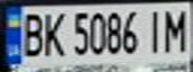0: (87, 8, 106, 56)
5: (66, 8, 90, 57)
6: (121, 7, 145, 55)
8: (106, 8, 127, 55)
B: (15, 9, 45, 57)
I: (142, 7, 169, 54)
K: (39, 8, 69, 57)
M: (160, 6, 190, 54)
